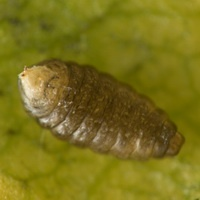insect: (18, 59, 183, 158)
